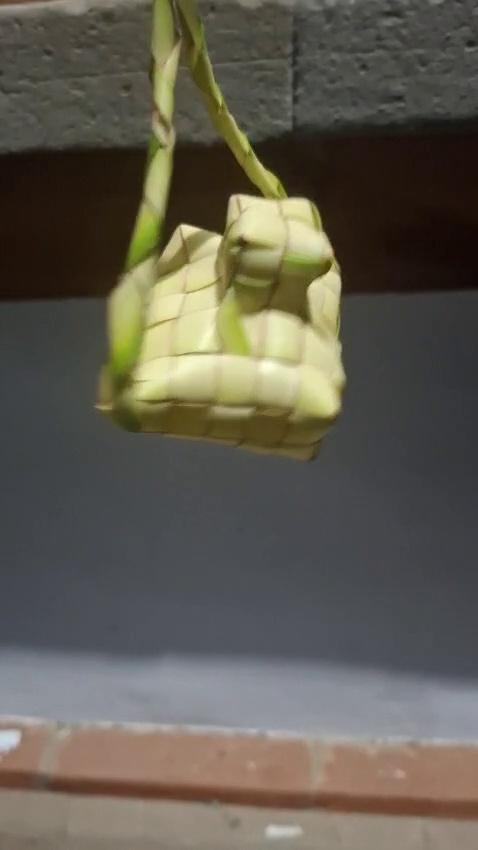Tipat Gong: (99, 0, 347, 466)
